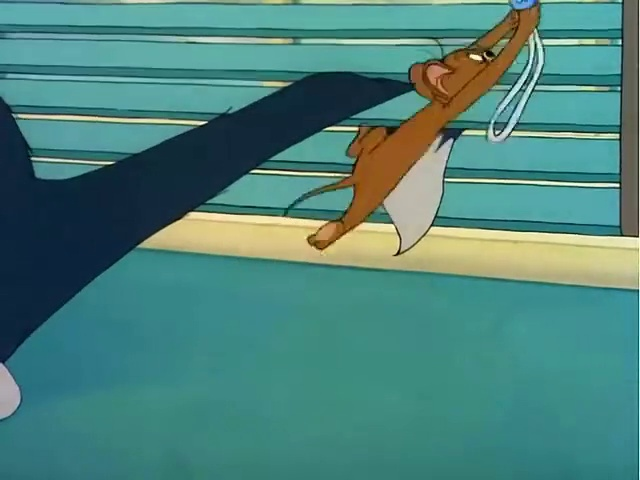jerry: (306, 12, 559, 268)
